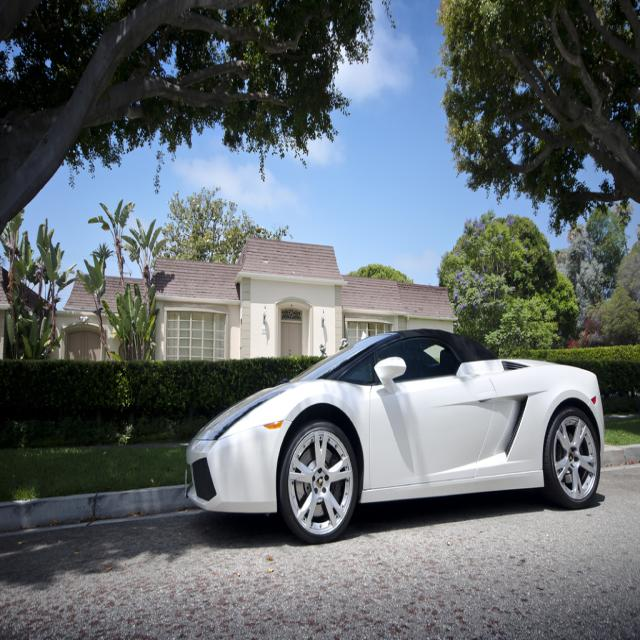car: (184, 327, 604, 545)
